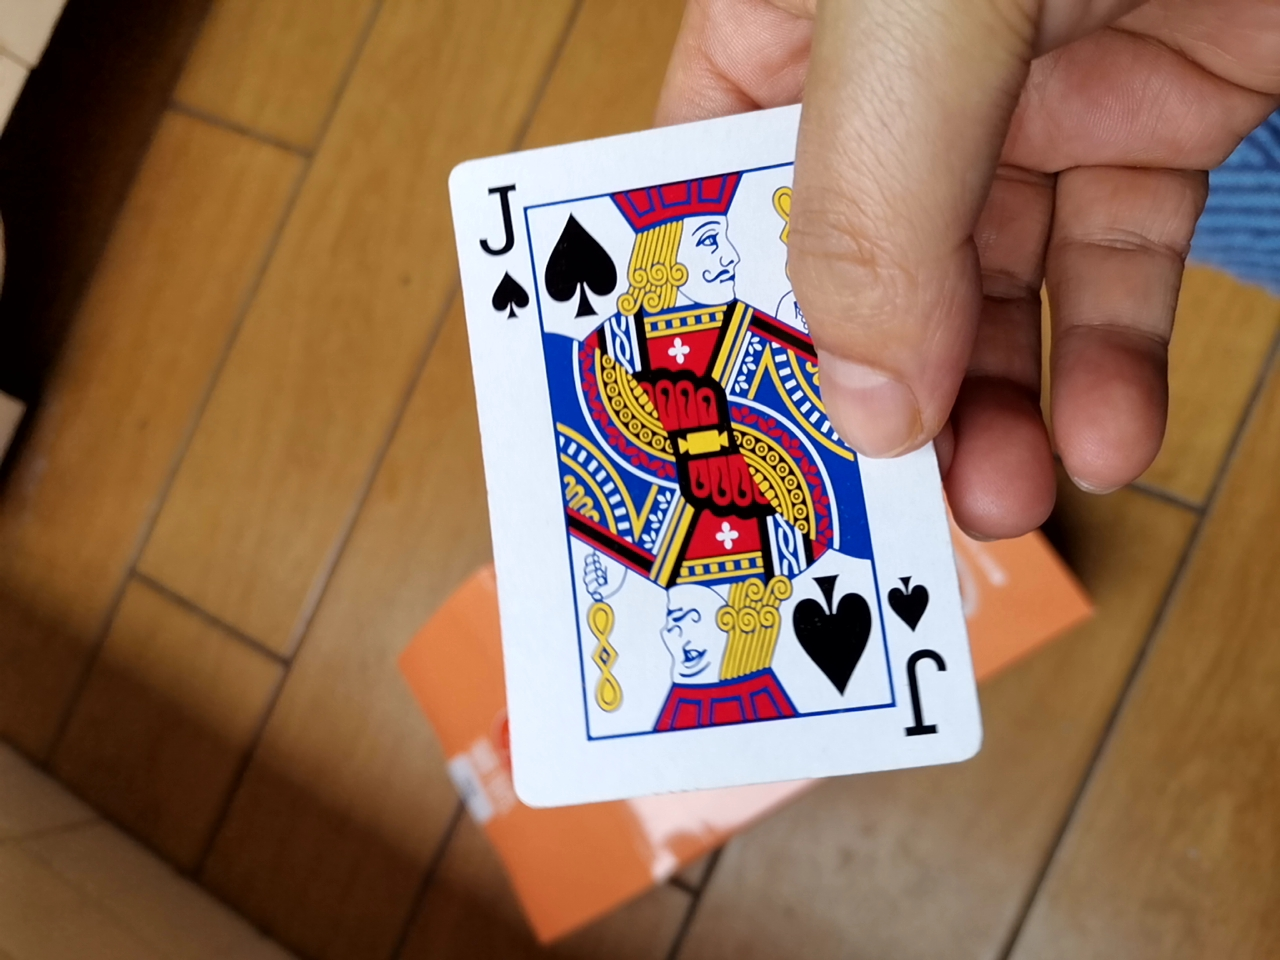ht j: (431, 106, 968, 821)
